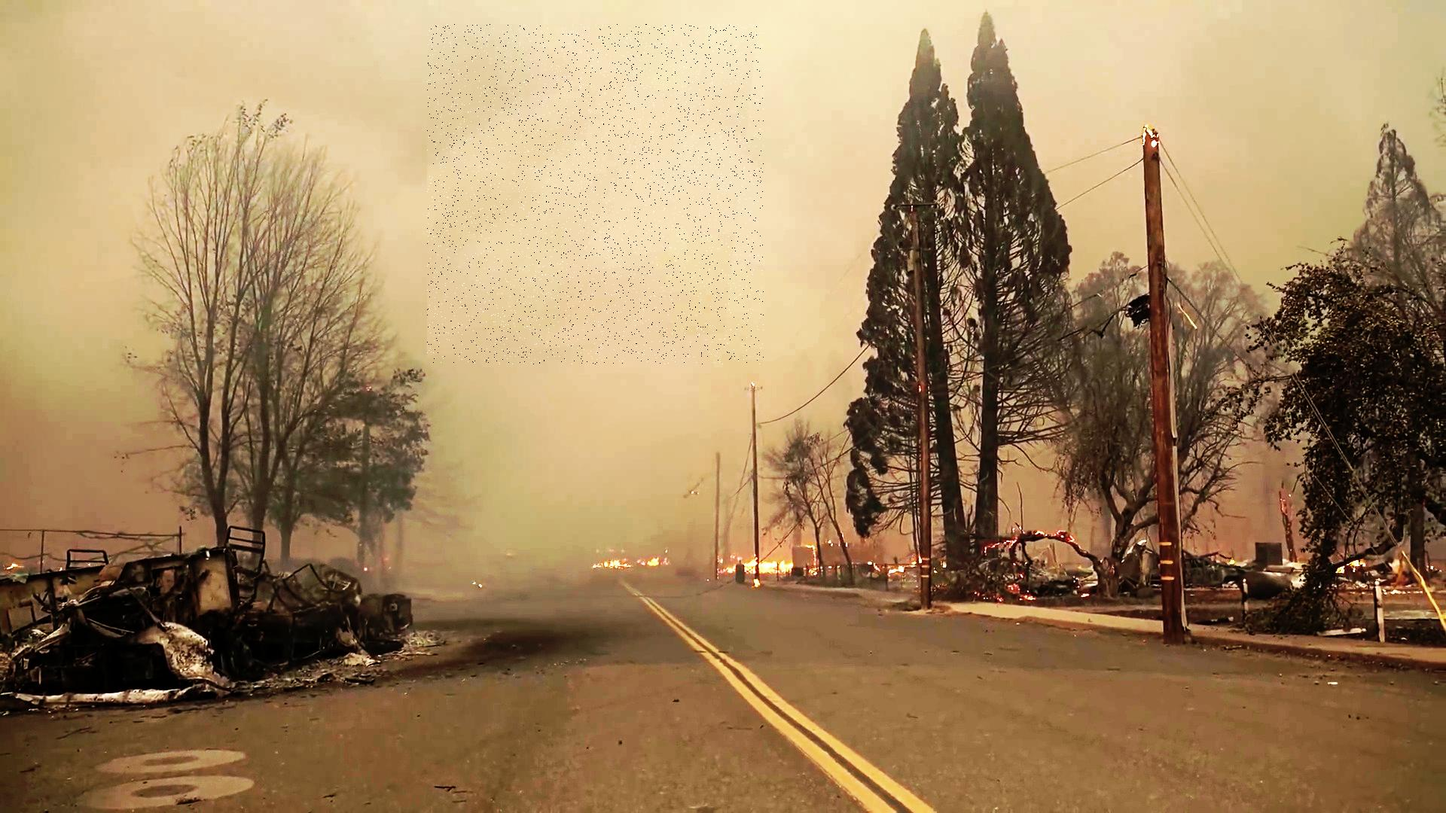smoke: (428, 25, 764, 365)
